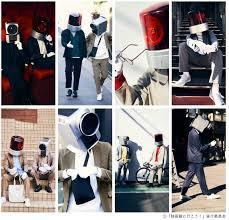no more kid: (57, 108, 103, 150), (5, 20, 22, 44)
